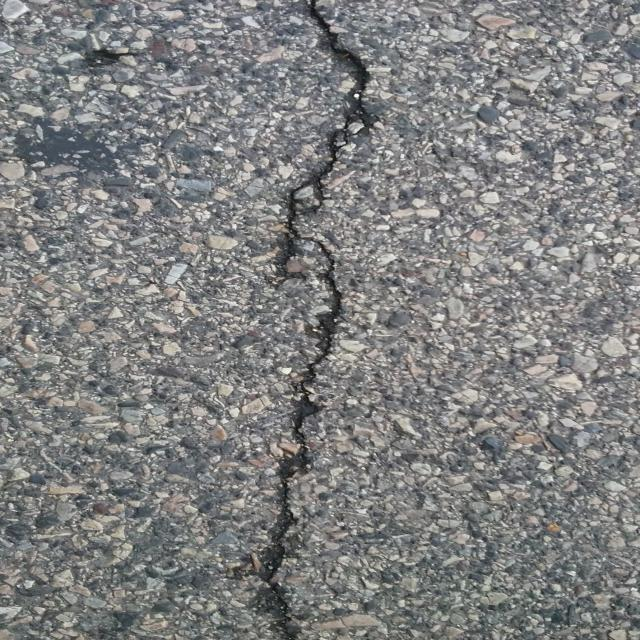Crack: (254, 0, 379, 640)
